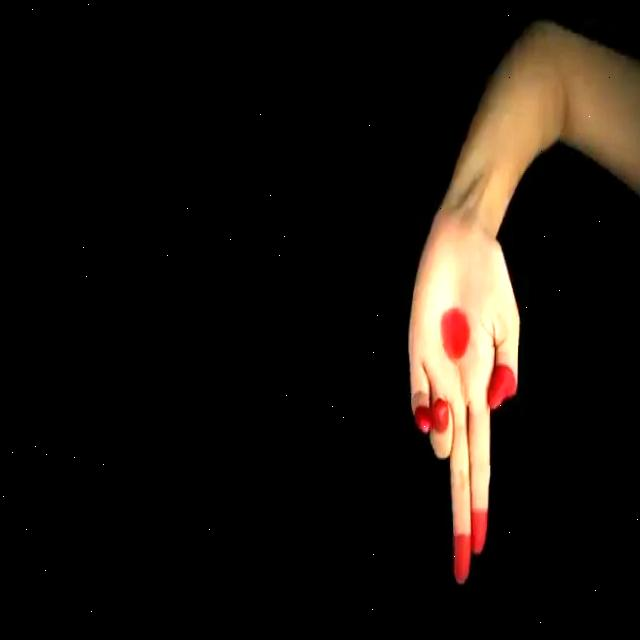Ardhapataka: (394, 192, 528, 602)
